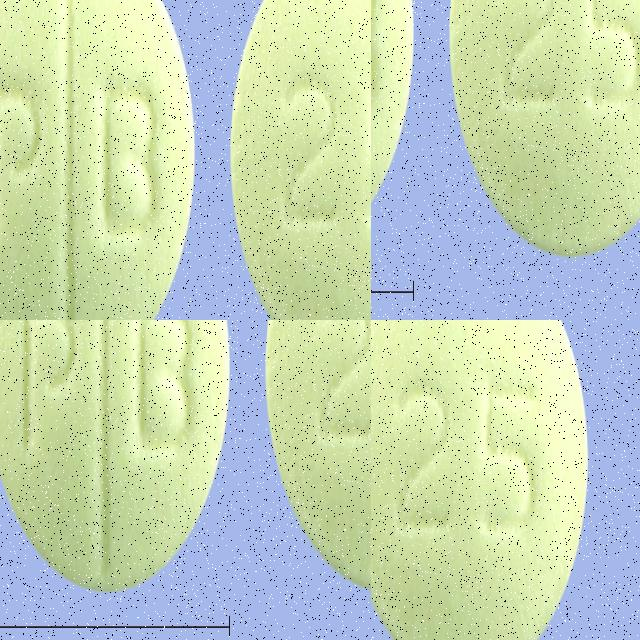Azabio - 50mg: (371, 320, 591, 640)
Cifroxa: (0, 320, 234, 599), (258, 320, 371, 602)
Clacid -500mg: (0, 102, 252, 320), (212, 0, 371, 193)
Doxiendi: (454, 0, 640, 258)
